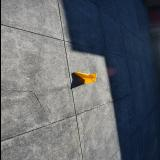cone: (74, 72, 96, 84)
